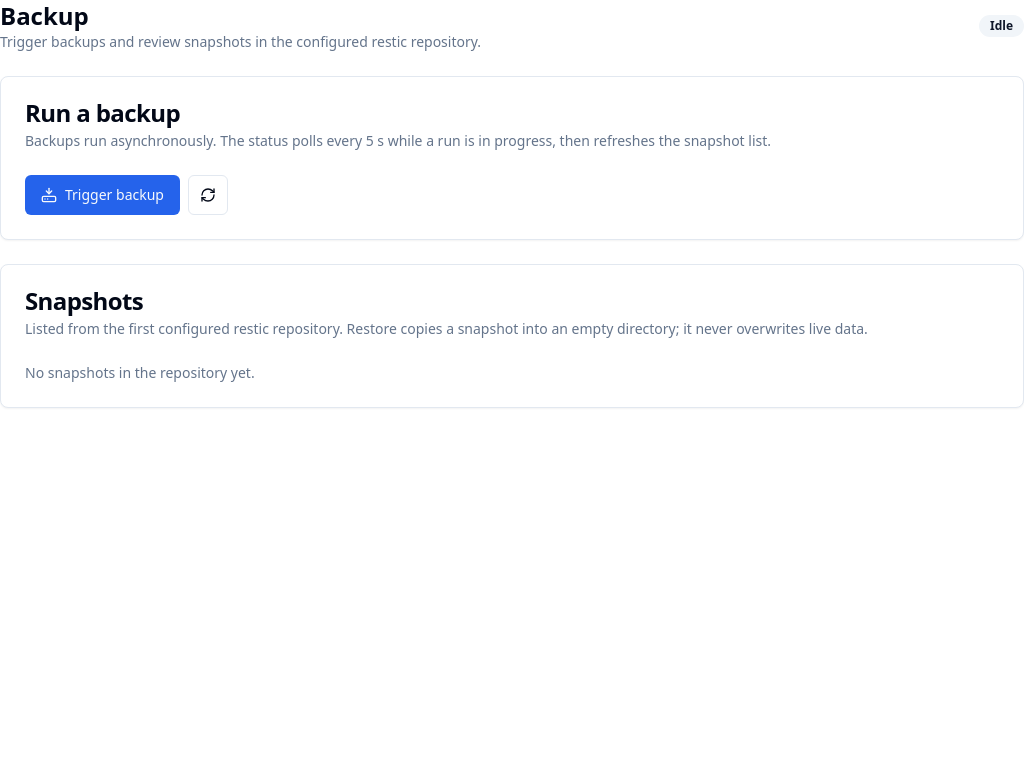
it: Backup › after a manual trigger › keeps the 5s status poll active until the run ends, then refetches snapshots
Later steps or results of the test are not shown.
Expected: the text "Idle" is shown, [979,15,1023,37]
Click the button "Trigger backup": (102, 195) [25,175,180,215]
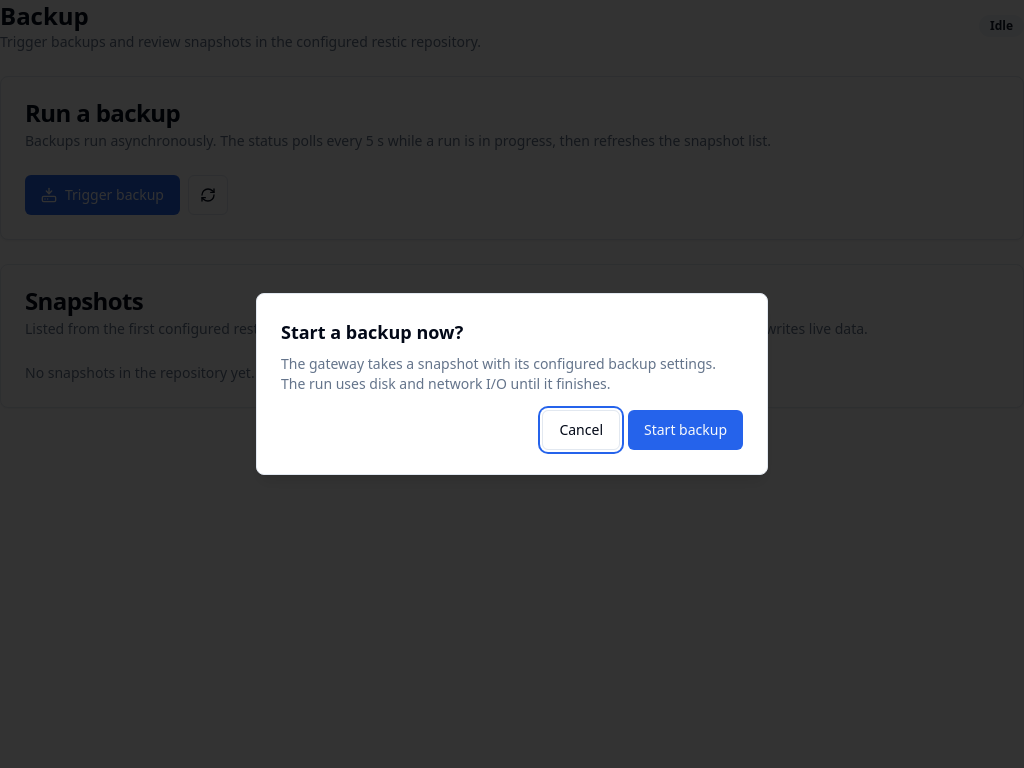
Click the button "Start backup": (686, 430) [628,410,743,450]
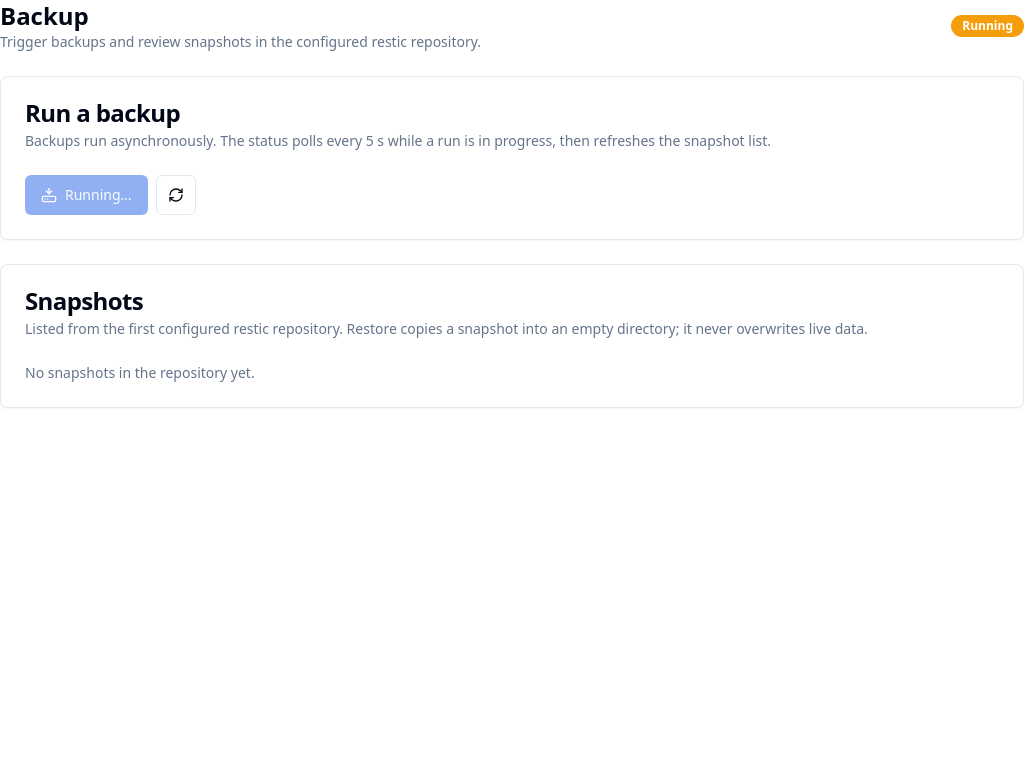
Expected: the text "Running" is shown, [951,15,1023,37]
